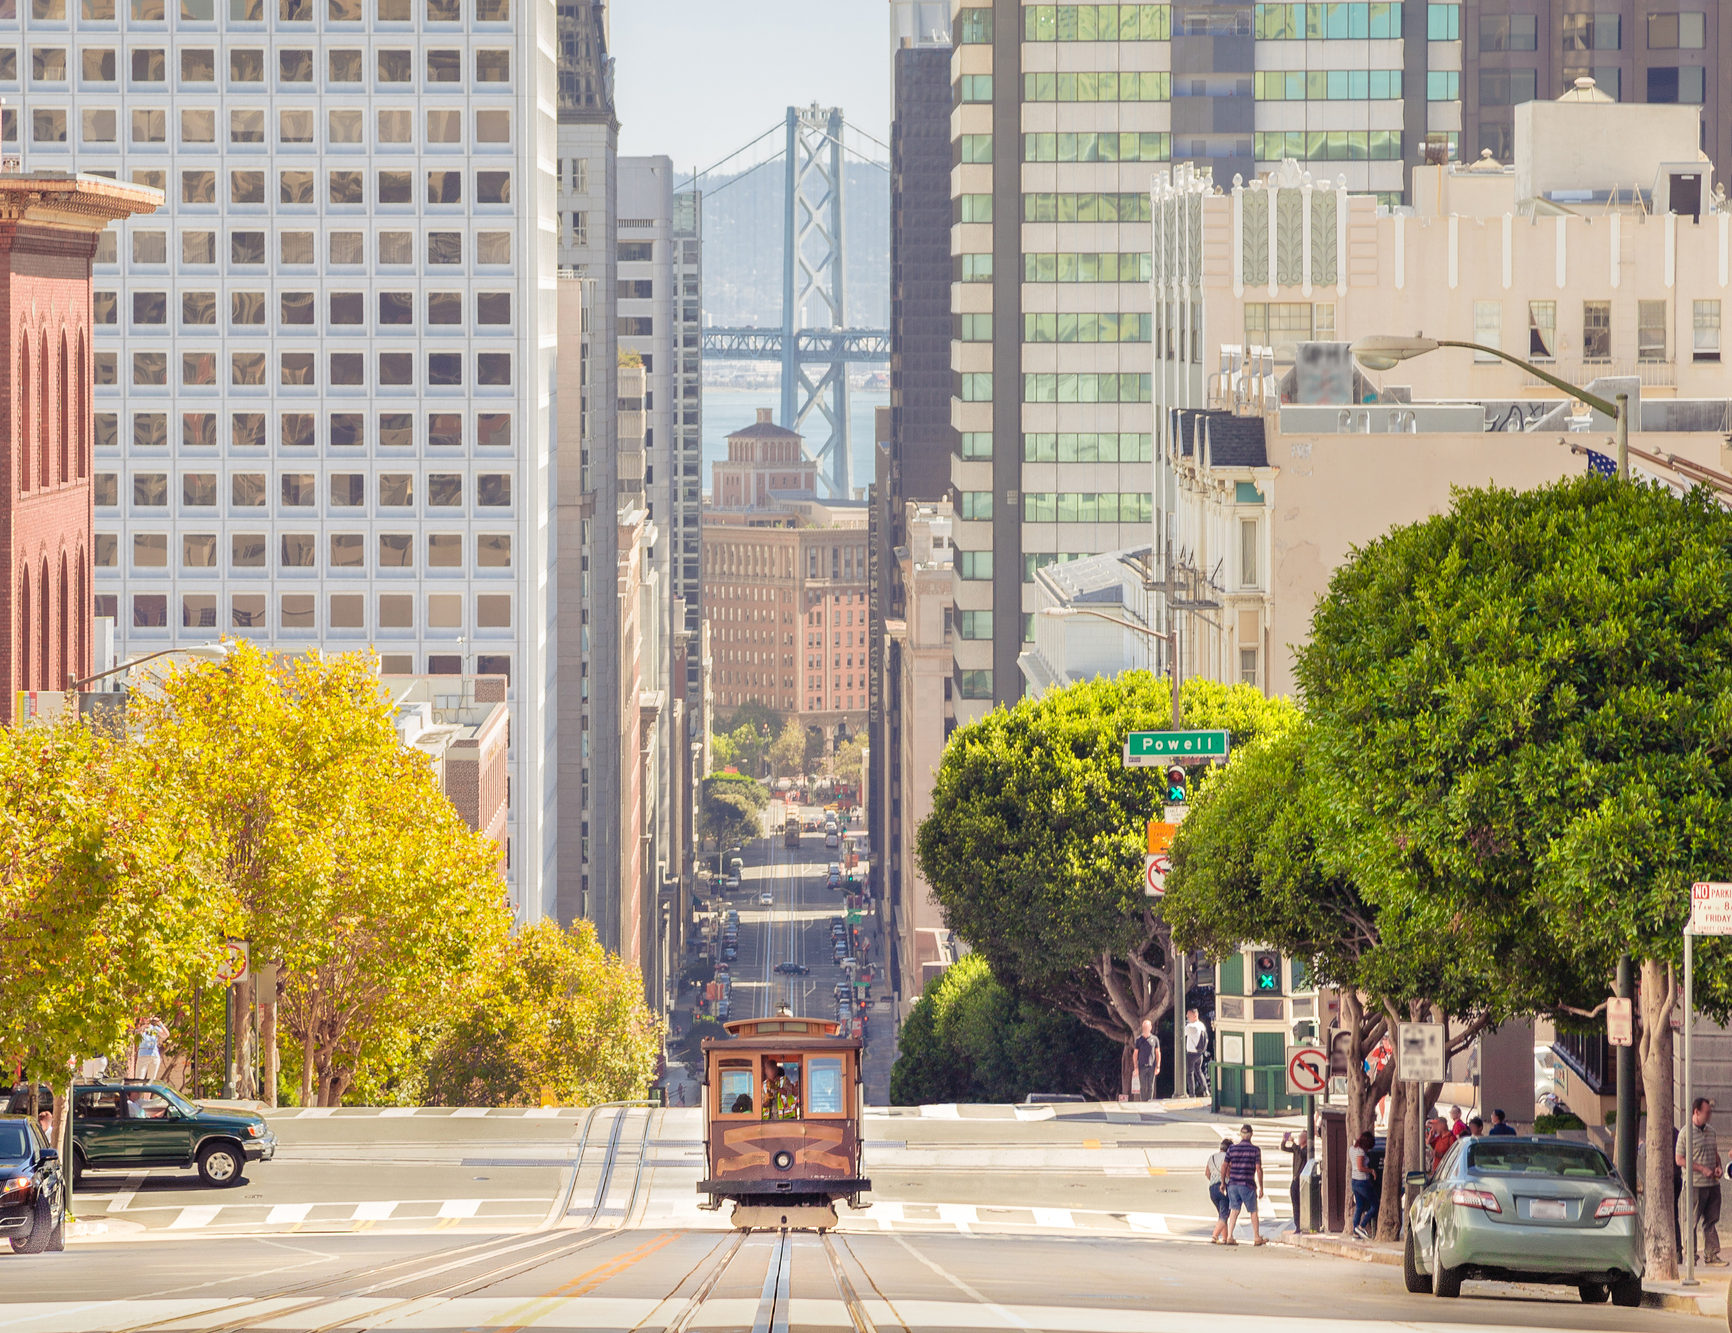tree: (1290, 470, 1731, 1284), (931, 666, 1304, 1103)
